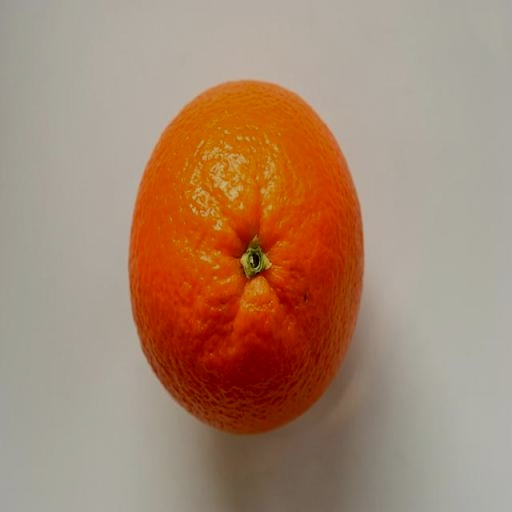fruit: (130, 81, 363, 433)
